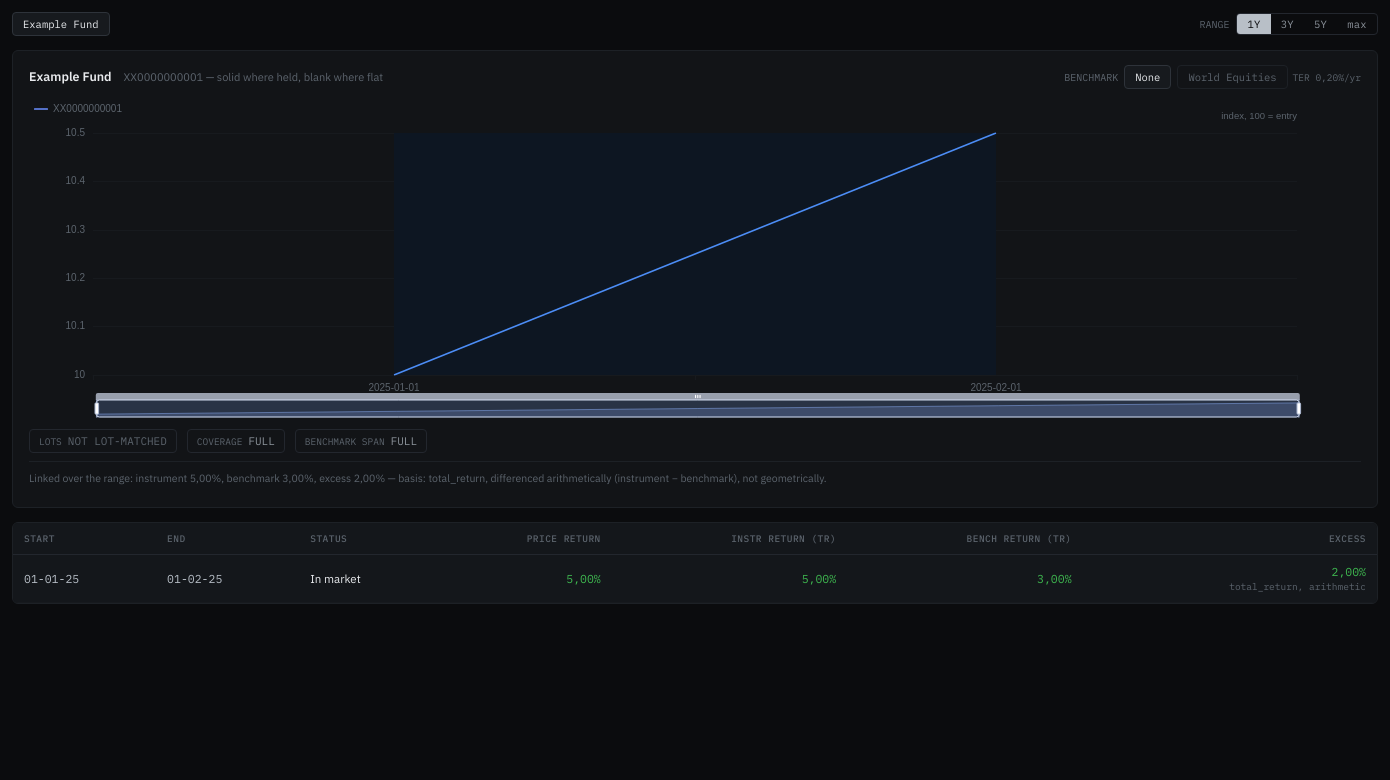
Test: the benchmark's cost › says the TER is drag on the proxy and is not subtracted
The image size is (1390, 780).
Click the button "World Equities".
click(1232, 77)  # box x1=1177 y1=65 x2=1288 y2=89
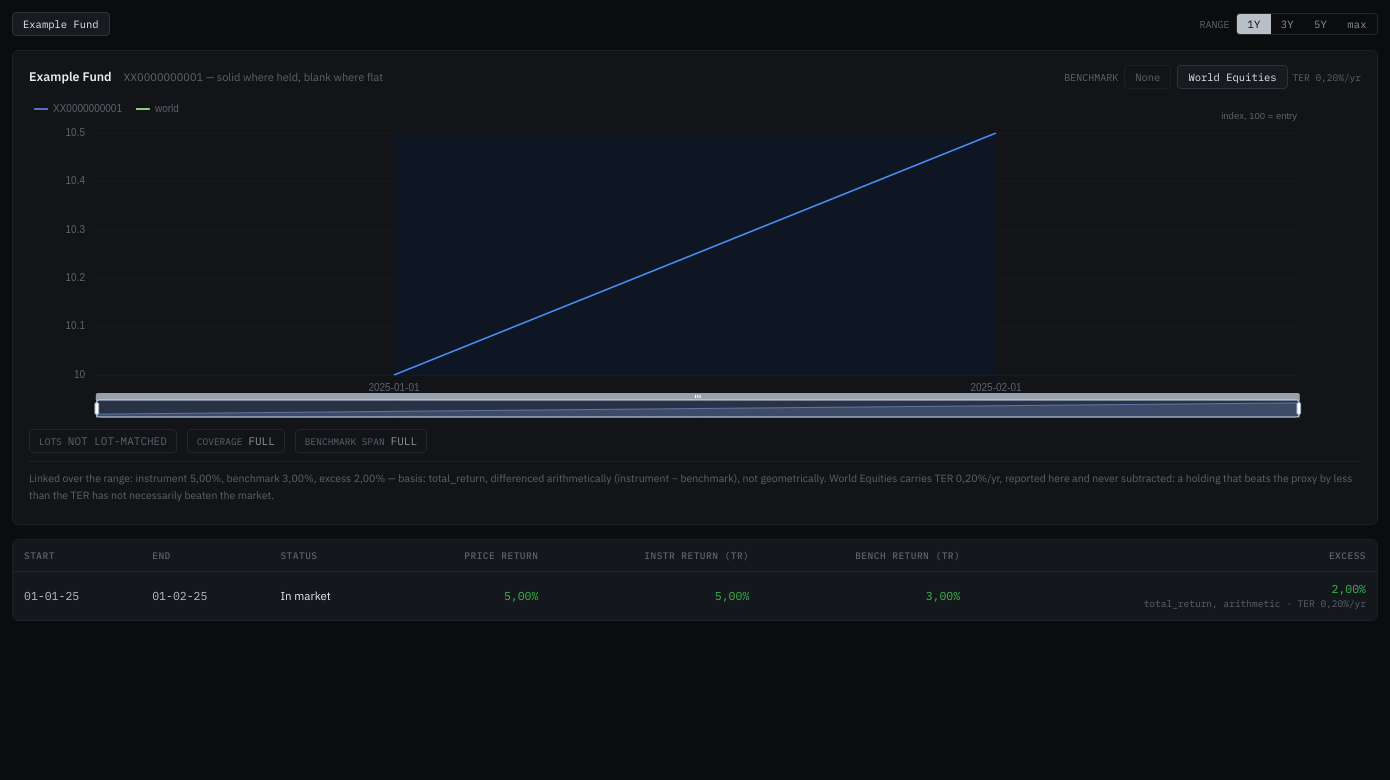
Expected: the text "has not necessarily beaten the market" is shown, x1=29 y1=471 x2=1352 y2=502
